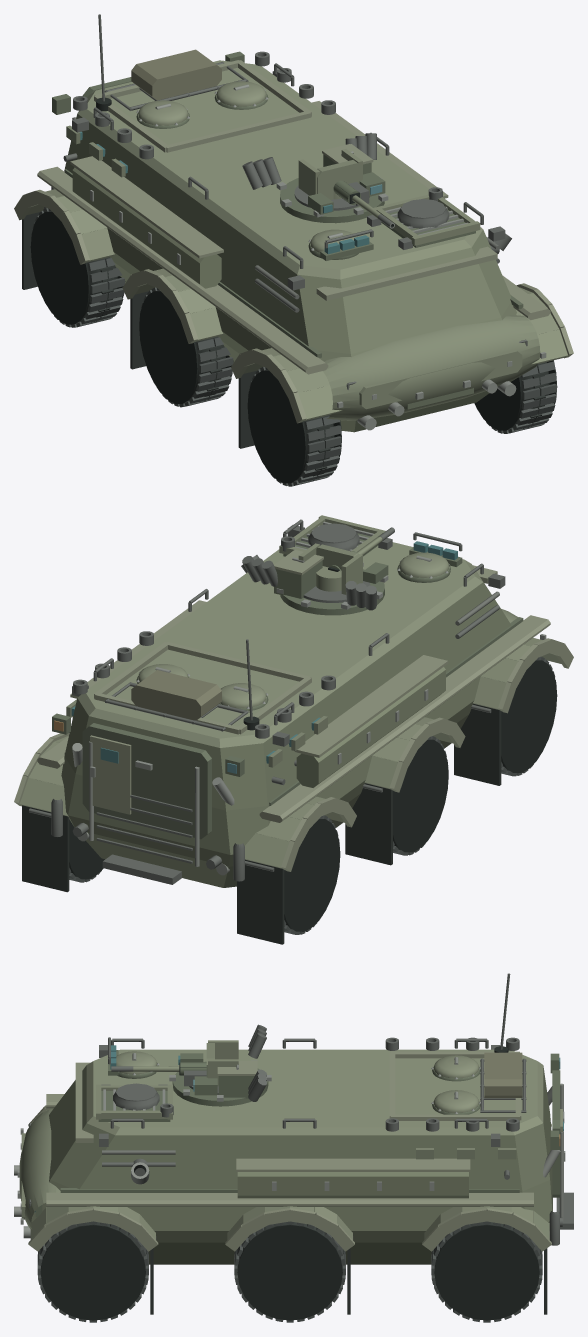
The model's file is spheres-ground-apc.glb.
The picture shows the model from 3 angles, top to bottom: view 1: azimuth 30°, elevation 25°; view 2: azimuth 150°, elevation 25°; view 3: azimuth 270°, elevation 25°; orthographic projection. The views are drawn at different scales.
Parts seen in each view (by area): view 1: Spheres armored personnel carrier; view 2: Spheres armored personnel carrier; view 3: Spheres armored personnel carrier.
Boxes of the visible parts, box(x1,y1,x2,y2) form: Spheres armored personnel carrier: box(14, 14, 573, 486); Spheres armored personnel carrier: box(14, 515, 573, 944); Spheres armored personnel carrier: box(14, 973, 573, 1322).
Size of the model in its own units: 2.98 by 3.01 by 5.86.
